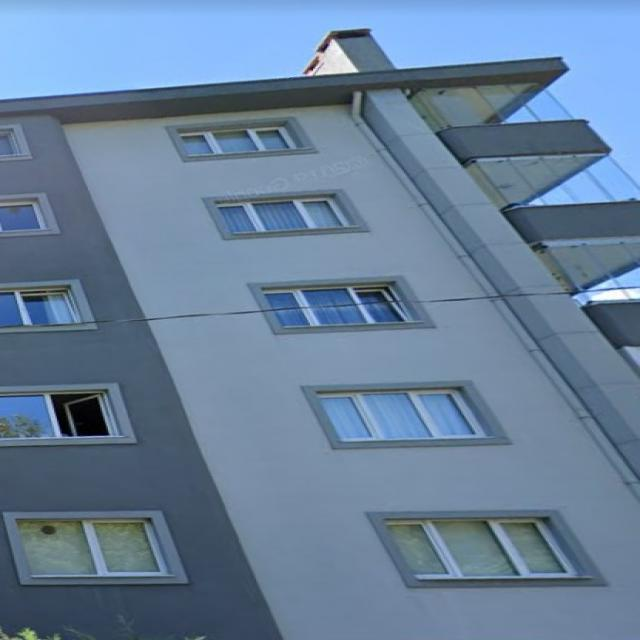Building: (0, 28, 640, 640)
